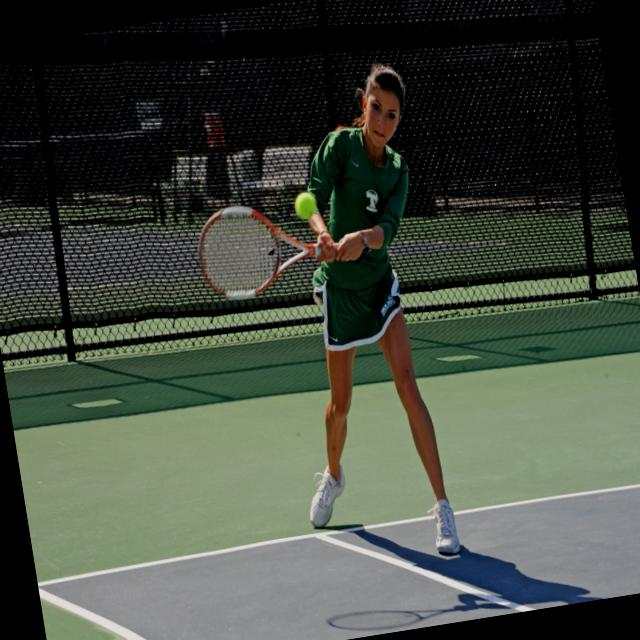Tennis Ball: (294, 192, 318, 222)
